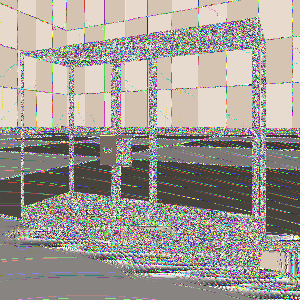Rack: (20, 15, 267, 278)
